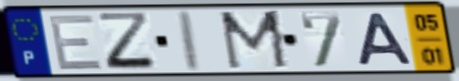7: (298, 10, 345, 69)
A: (355, 11, 416, 67)
E: (45, 13, 106, 72)
I: (178, 8, 204, 74)
M: (216, 8, 293, 72)
Z: (94, 10, 161, 72)
